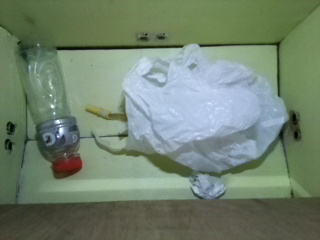bottle: (13, 36, 83, 175)
paper: (188, 173, 229, 199)
plastic-bag: (96, 43, 289, 175)
